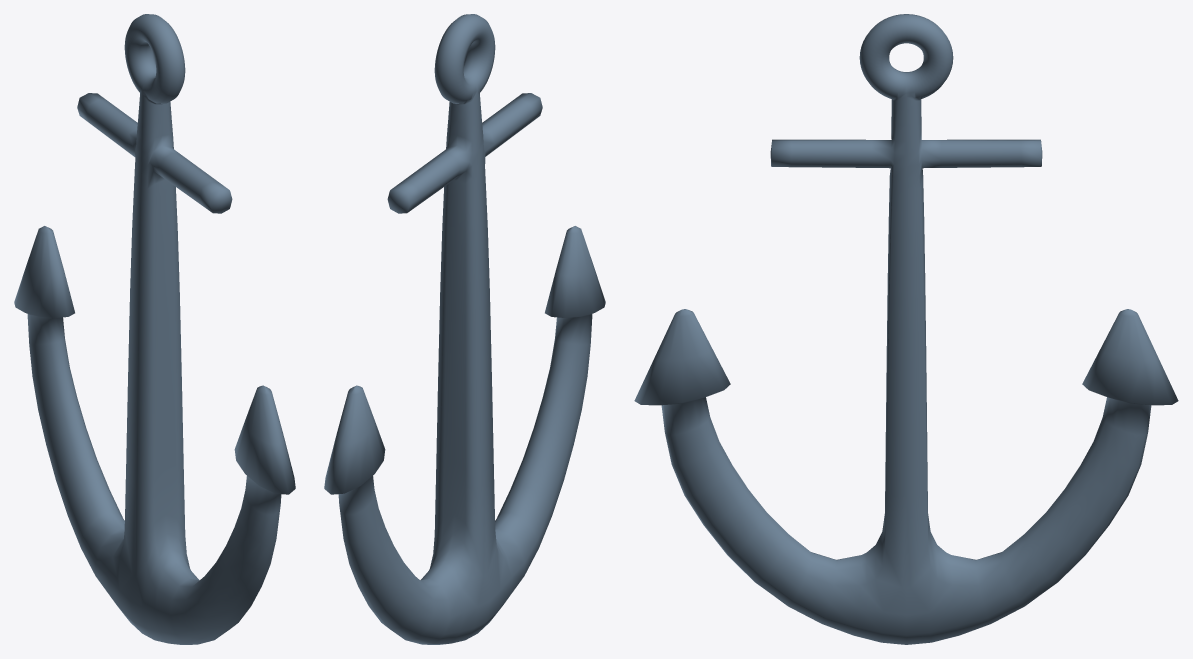
The model's file is Anchor.glb.
3 renders of one model, left to right at view 1: azimuth 30°, elevation 25°; view 2: azimuth 150°, elevation 25°; view 3: azimuth 270°, elevation 25°, orthographic.
Visible parts, largest first — view 1: Torus; view 2: Torus; view 3: Torus.
Part boxes in pixels (x1,y1,x2,y2): Torus: (14,14,295,644); Torus: (324,14,605,644); Torus: (634,14,1178,644).
Bounding box in the file's own units: 0.2407 × 2.88 × 2.26.
